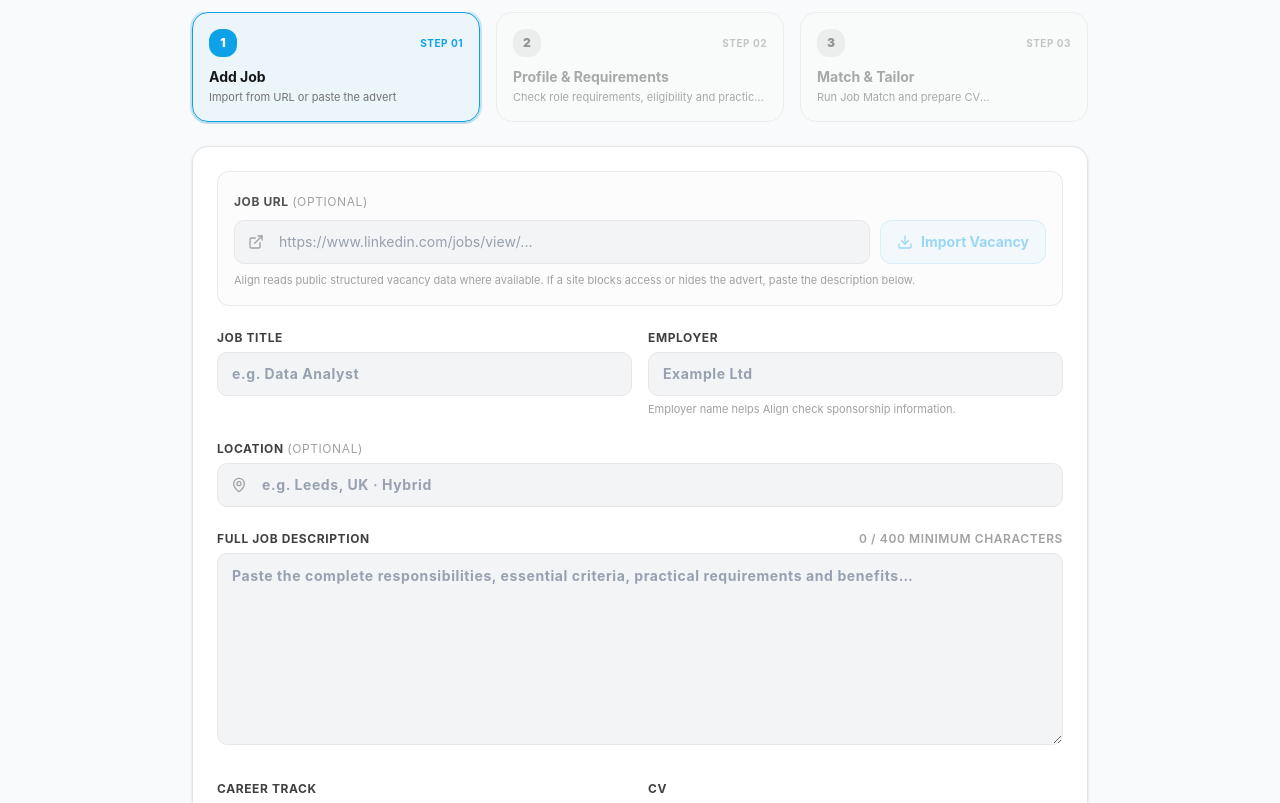
universal vacancy intake › imports a public vacancy URL into editable fields
Type "https://jobs.example/vacancy/123" into the field labelled "Job URL (optional)" at (552, 242), box 234,220 -> 870,264
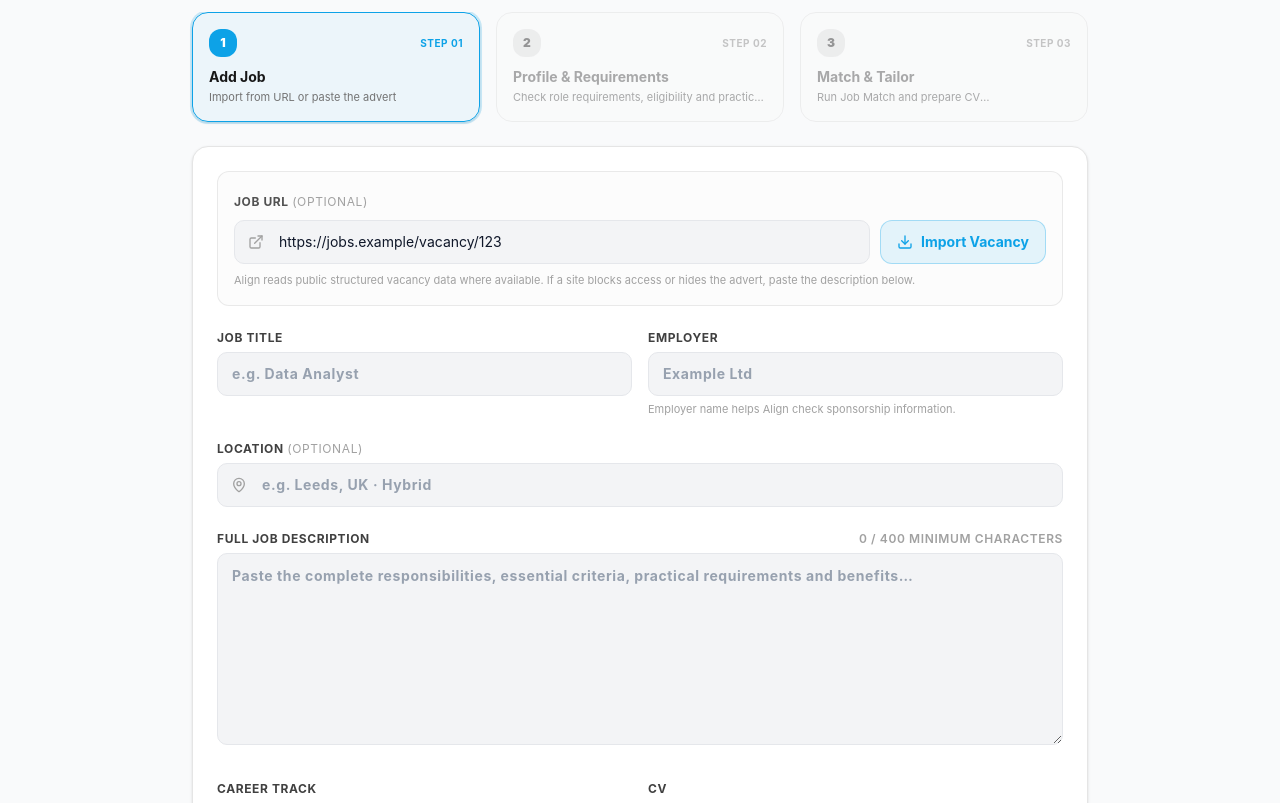
Click the button "Import Vacancy" at (963, 242), box 880,220 -> 1046,264
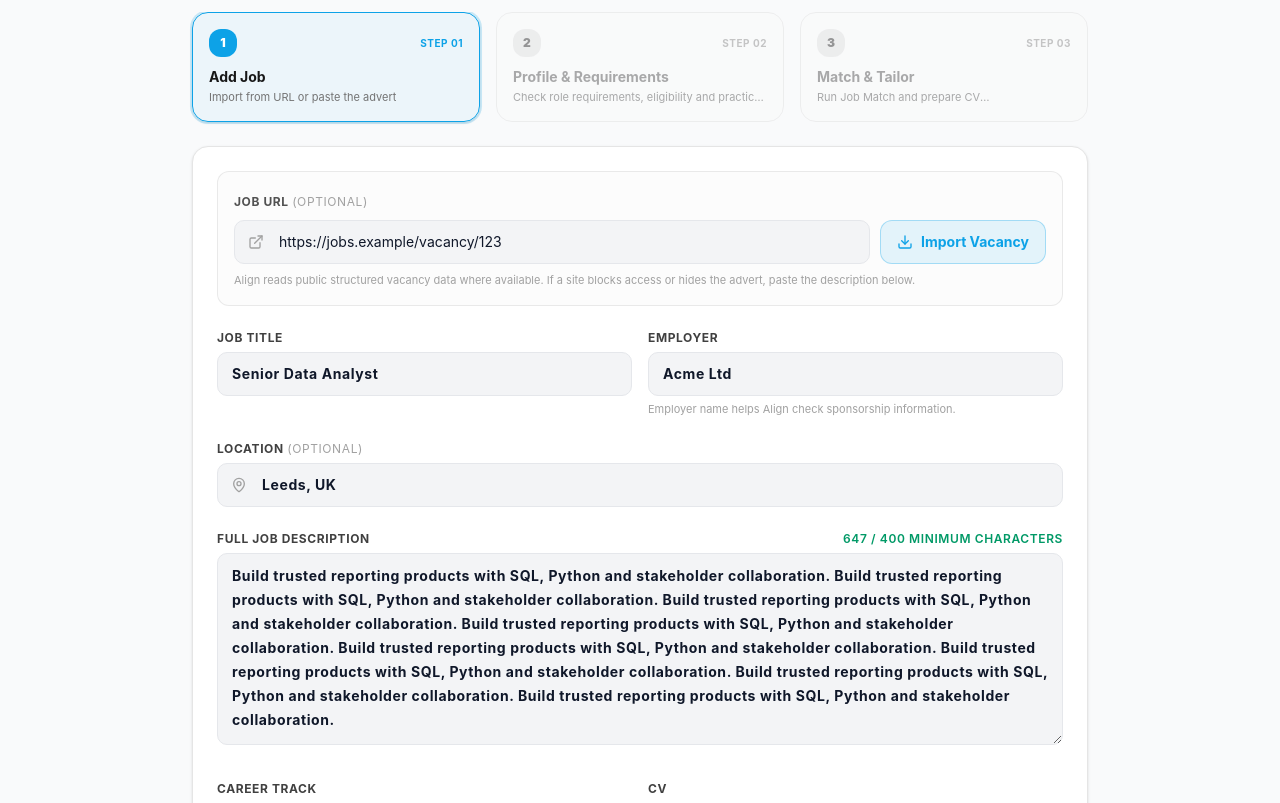
Check: the field labelled "Job title" holds "Senior Data Analyst", box 217,352 -> 632,396
Check: the field labelled "Employer" holds "Acme Ltd", box 648,352 -> 1063,396
Check: the field labelled "Location (optional)" holds "Leeds, UK", box 217,463 -> 1063,507
